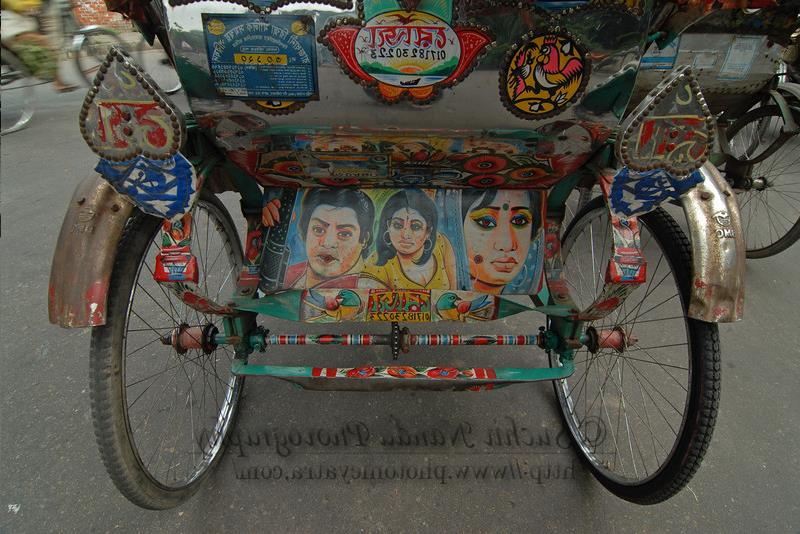Rickshaw: (58, 0, 719, 466), (632, 1, 797, 261), (731, 2, 796, 262)
